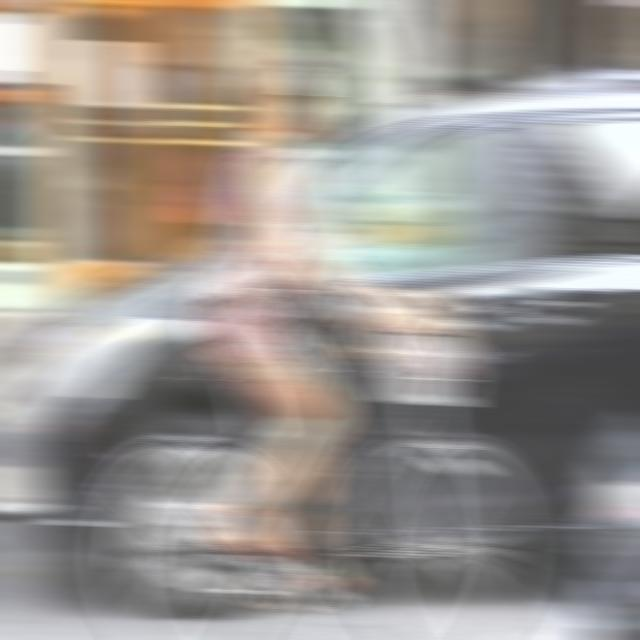Without Helmet: (248, 40, 326, 142)
